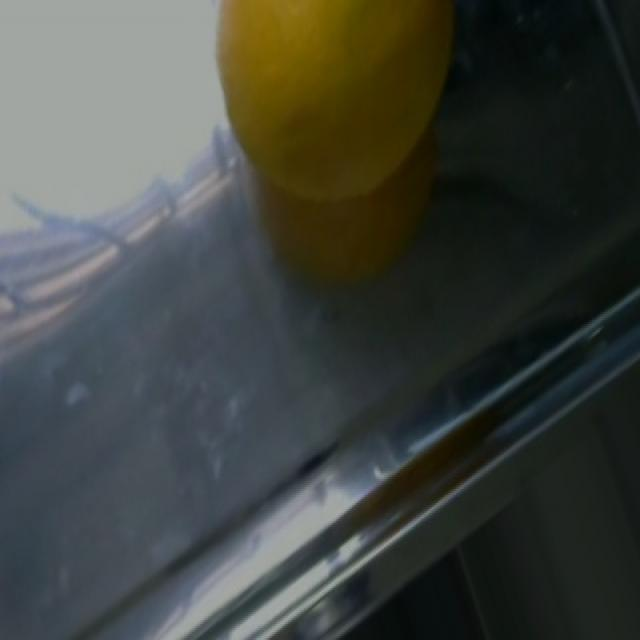Fruit: (196, 0, 484, 26)
